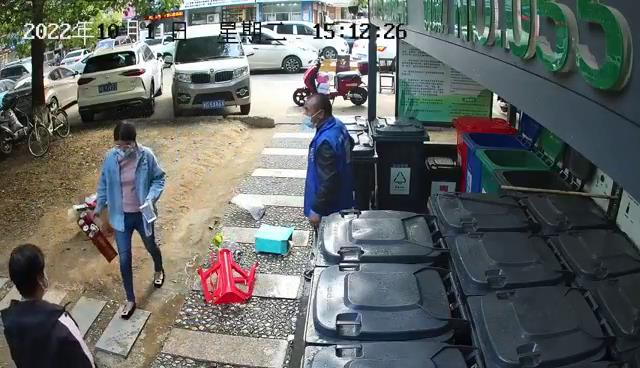person: (1, 243, 98, 368)
suliaozhipin: (195, 247, 260, 306), (230, 194, 266, 221)
worker: (91, 123, 166, 319), (301, 92, 355, 231)
zhizhipin: (77, 211, 118, 265), (253, 223, 294, 258)
